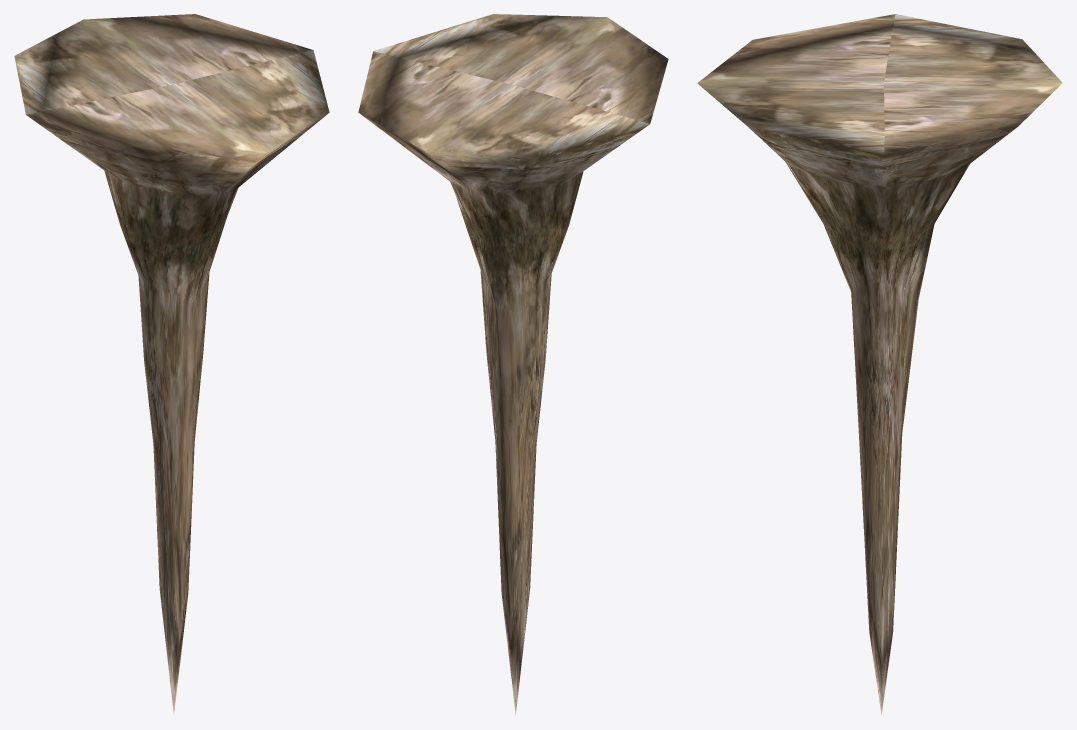
The model's file is thm_all_cave_stalagtite_b3_l0.fbx.
3 renders of one model, left to right at view 1: azimuth 30°, elevation 25°; view 2: azimuth 150°, elevation 25°; view 3: azimuth 270°, elevation 25°, orthographic.
Parts seen in each view (by area): view 1: mesh_node; view 2: mesh_node; view 3: mesh_node.
Part boxes in pixels (bbox=[...]): mesh_node: bbox=[14, 14, 329, 714]; mesh_node: bbox=[358, 14, 668, 715]; mesh_node: bbox=[697, 14, 1062, 714].
Bounding box in the file's own units: 2.43 × 5.18 × 2.71.
